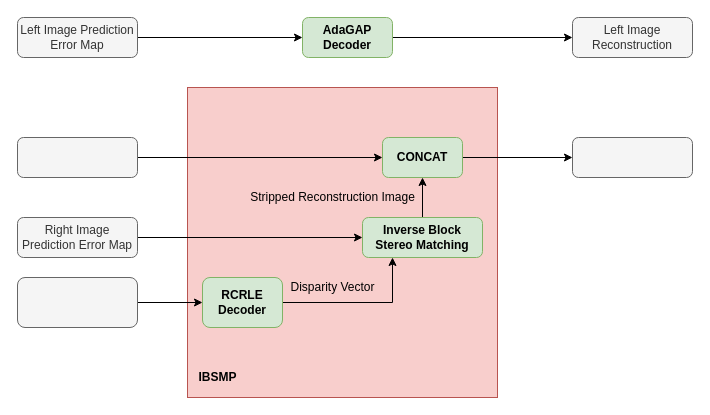
Image size: 710x415. Some labels were removed from this diagram. The shapes that lost their labels are listed below. From the top down, each one's centre as x and y in pixels, then its label:
At point 77,157: "Right Image Leftover Strip".
At point 632,157: "Right Image Reconstruction".
At point 77,302: "Right Image RL-encoded Disparity Vector".
